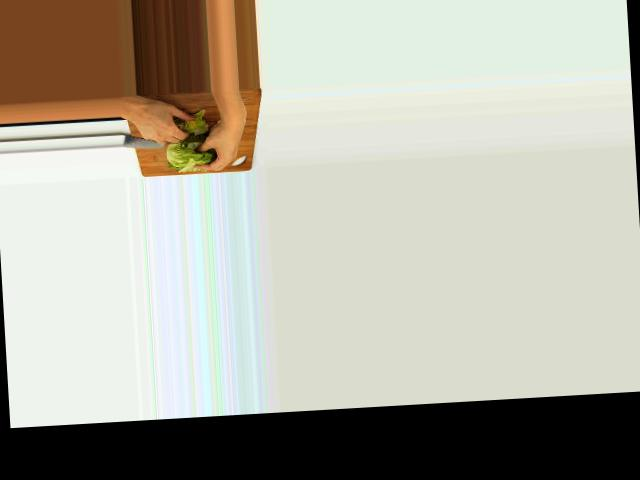lettuce: (164, 136, 214, 171)
